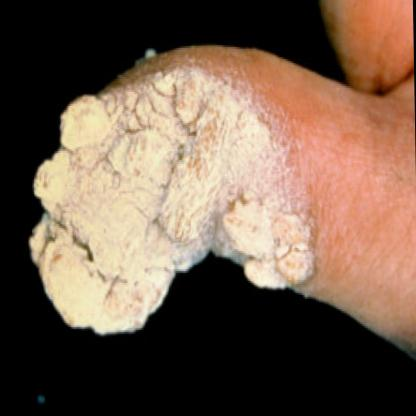Warts: (18, 44, 335, 360)
